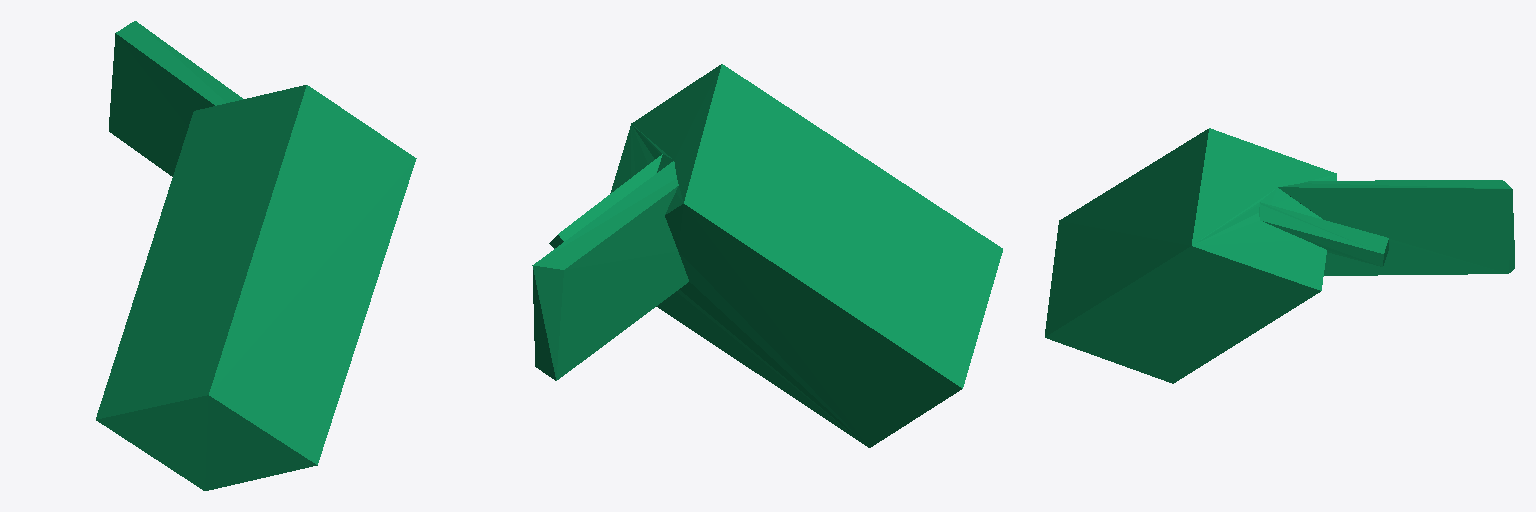
URDF robot description (blob002):

<robot name="blob002">
  <link name="random_obj_002">
    <contact>
      <lateral_friction value="1.0"/>
      <rolling_friction value="0.0"/>
      <inertia_scaling value="3.0"/>
      <contact_cfm value="0.0"/>
      <contact_erp value="1.0"/>
    </contact>
    <inertial>
      <origin rpy="0 0 0" xyz="0 0 0"/>
      <mass value="0.0945"/>
      <inertia ixx="1" ixy="0" ixz="0" iyy="1" iyz="0" izz="0"/>
    </inertial>
    <visual>
      <origin rpy="0 0 0" xyz="0 0 0"/>
      <geometry>
        <mesh filename="002.stl" scale="0.0071 0.0071 0.0071"/>
      </geometry>
      <material name="blockmat">
        <color rgba="0.11 0.63 0.41 1"/>
      </material>
    </visual>
    <collision>
      <origin rpy="0 0 0" xyz="0 0 0"/>
      <geometry>
        <mesh filename="002_coll.stl" scale="0.0071 0.0071 0.0071"/>
      </geometry>
    </collision>
  </link>
</robot>

--- Facts derived from the render (not from the file) ---
The picture shows the robot from 3 angles, left to right: view 1: azimuth 30°, elevation 25°; view 2: azimuth 150°, elevation 25°; view 3: azimuth 270°, elevation 25°; orthographic projection.
Robot: blob002 — 1 links, 0 joints (none); root link random_obj_002; default pose: every joint at zero.
Visible links, largest first — view 1: random_obj_002; view 2: random_obj_002; view 3: random_obj_002.
Link boxes in pixels (bbox=[...]): random_obj_002: bbox=[96, 21, 416, 490]; random_obj_002: bbox=[532, 64, 1002, 447]; random_obj_002: bbox=[1045, 128, 1514, 383].
Bounding box of the posed robot: 0.0899 × 0.1337 × 0.0962 m (x, y, z).
1 mesh visuals loaded from 1 distinct referenced files (1 binary STL).